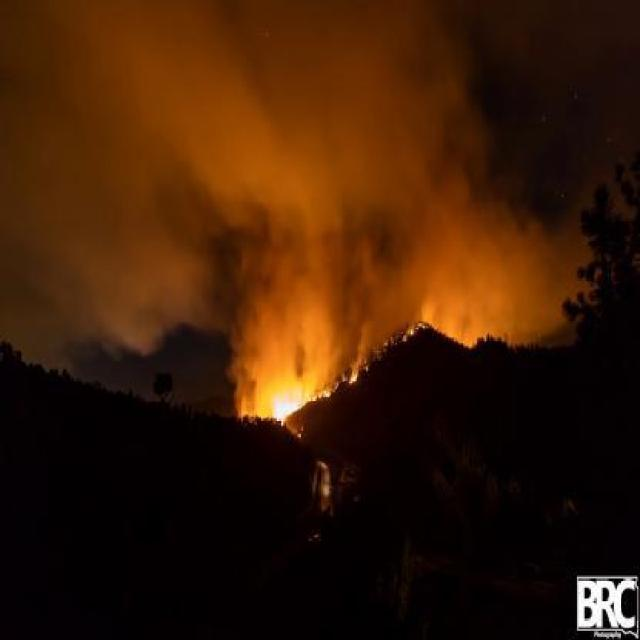Fire: (242, 378, 306, 433), (306, 368, 346, 399), (400, 318, 422, 344), (348, 372, 356, 385)
